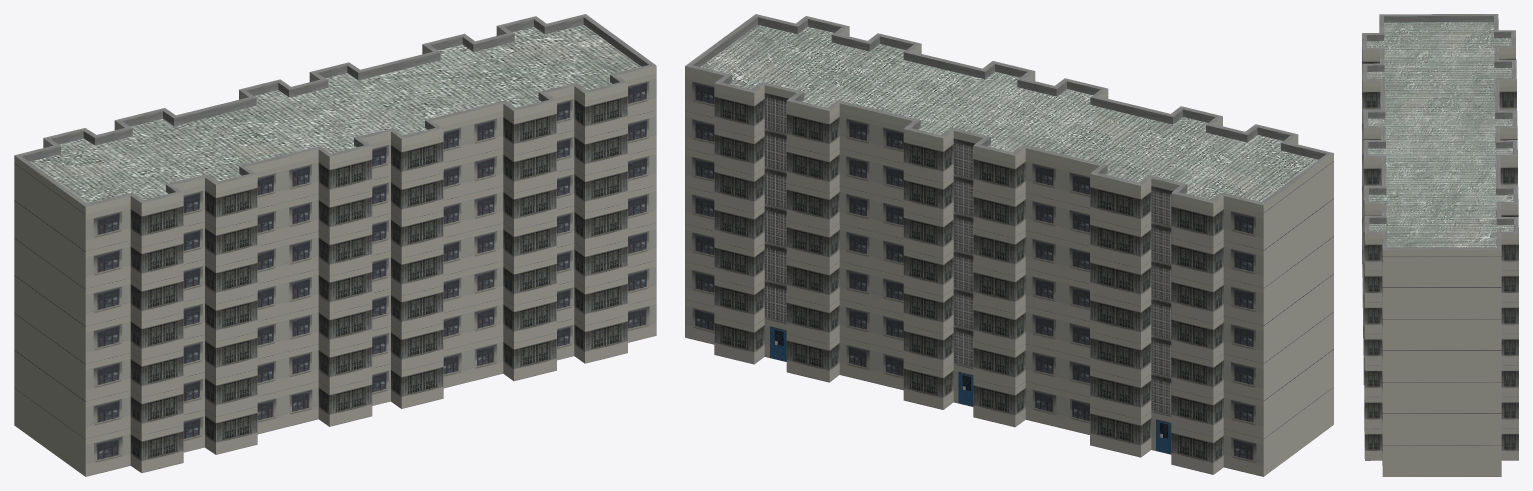
3 views of the same model, side by side, from view 1: azimuth 30°, elevation 25°; view 2: azimuth 150°, elevation 25°; view 3: azimuth 270°, elevation 25° (orthographic). The views are drawn at different scales.
Parts seen in each view (by area): view 1: jz9; view 2: jz9; view 3: jz9.
Part boxes in pixels (left/top/right/bottom): jz9: left=14, top=14, right=656, bottom=476; jz9: left=685, top=14, right=1333, bottom=476; jz9: left=1362, top=14, right=1518, bottom=476.
Bounding box in the file's own units: 4788 × 2154 × 1346.
Materials: 7 (7 with a texture image).
